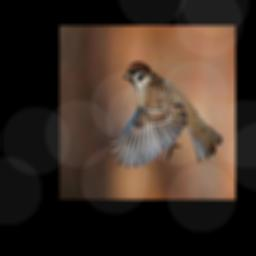Sparrow: (111, 61, 222, 167)
